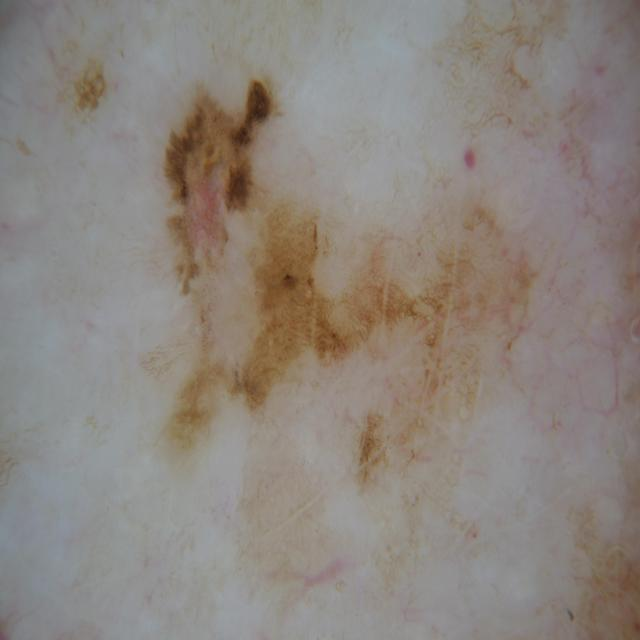Skin-Cancer Melanoma: (40, 25, 640, 640)
